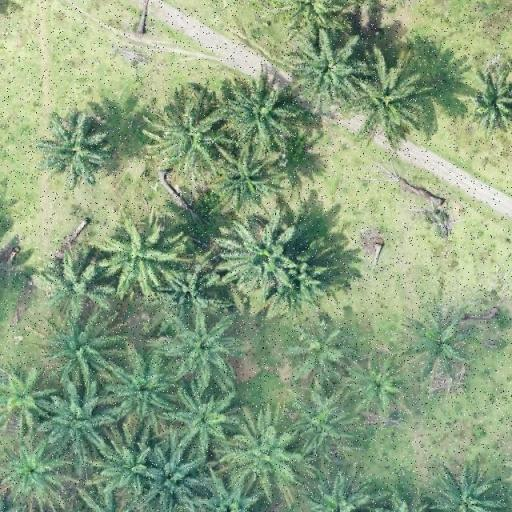Ganoderma: (414, 324, 466, 366), (8, 457, 56, 500), (358, 365, 404, 407), (2, 380, 40, 419)
